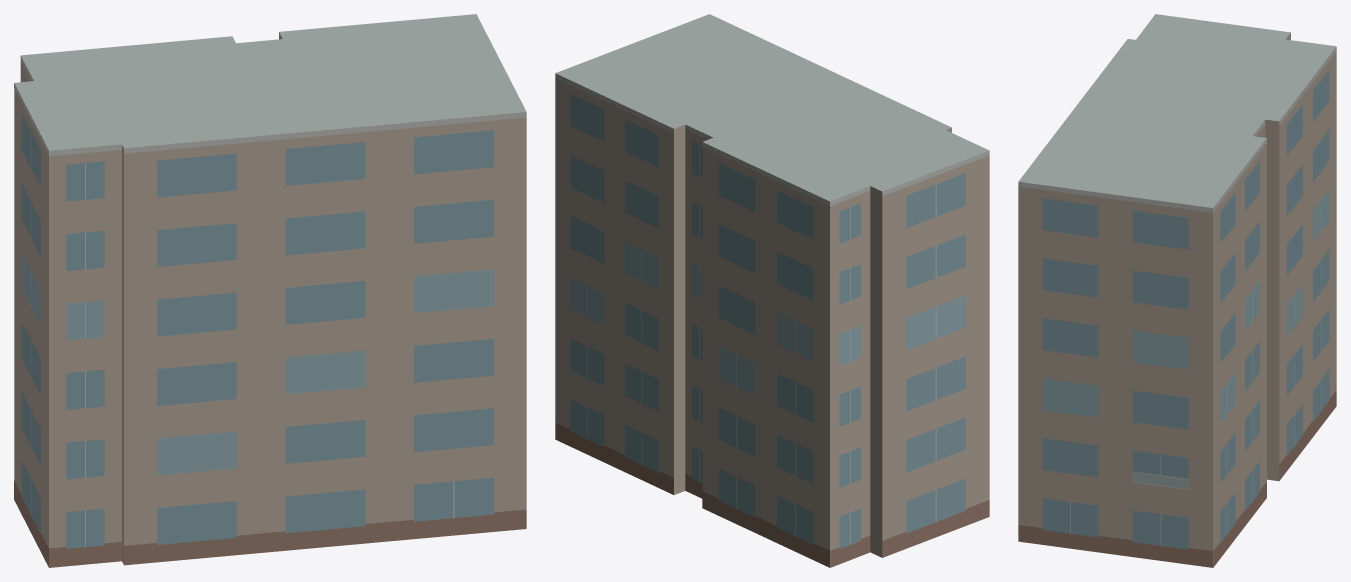
The model's file is survey-upis-32743053.glb.
The picture shows the model from 3 angles, left to right: view 1: azimuth 30°, elevation 25°; view 2: azimuth 150°, elevation 25°; view 3: azimuth 270°, elevation 25°; orthographic projection. The views are drawn at different scales.
Visible parts, largest first — view 1: survey-upis-32743053.tmp; view 2: survey-upis-32743053.tmp; view 3: survey-upis-32743053.tmp.
Part boxes in pixels (x1,y1,x2,y2): survey-upis-32743053.tmp: [14, 14, 526, 567]; survey-upis-32743053.tmp: [555, 14, 989, 567]; survey-upis-32743053.tmp: [1018, 14, 1336, 567].
Bounding box in the file's own units: 21.41 × 18.5 × 14.85.
